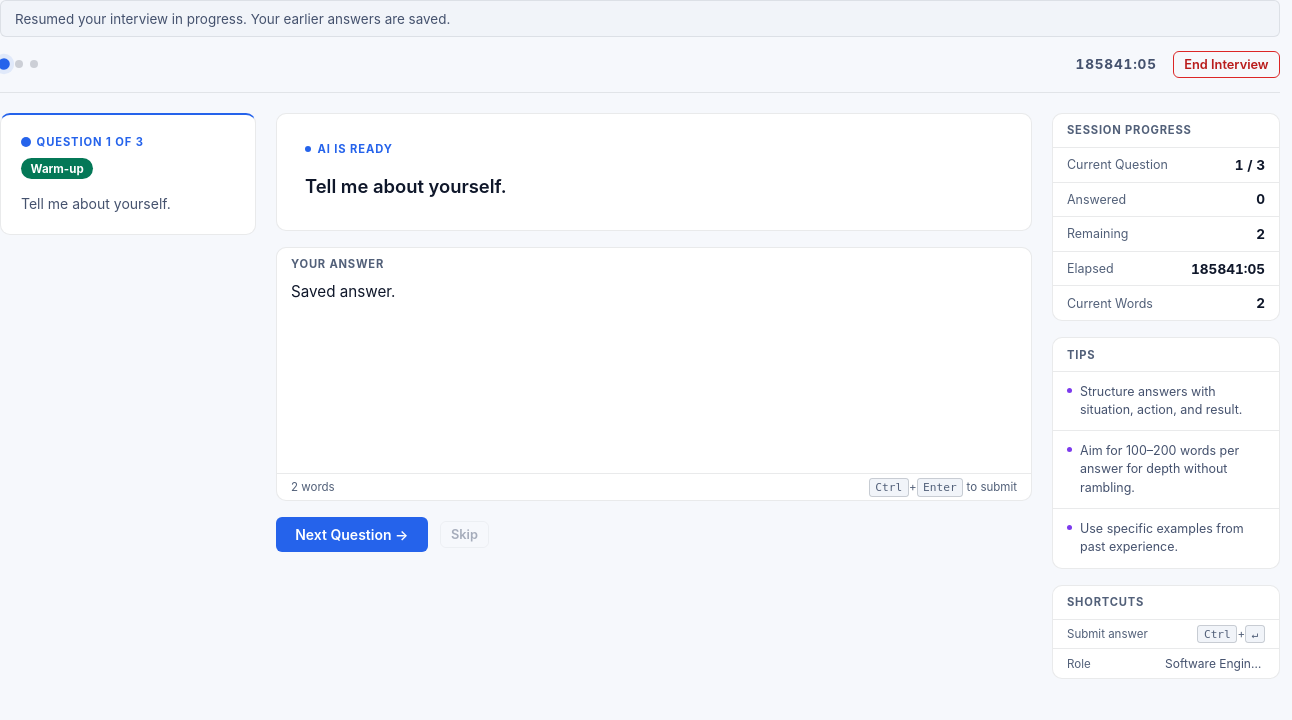
Scenario: LiveInterviewPage › Next question (retry safety) › when an earlier answer to the same question is already saved › restores the server's saved answer, not the rejected edit
This screenshot has width=1292, height=720.
Expected: the text with test id "current-question" is shown, [305,175,506,197]
Replace the text in the text box named "your answer" with "Edited answer." at (654, 370), box [277,271,1031,468]
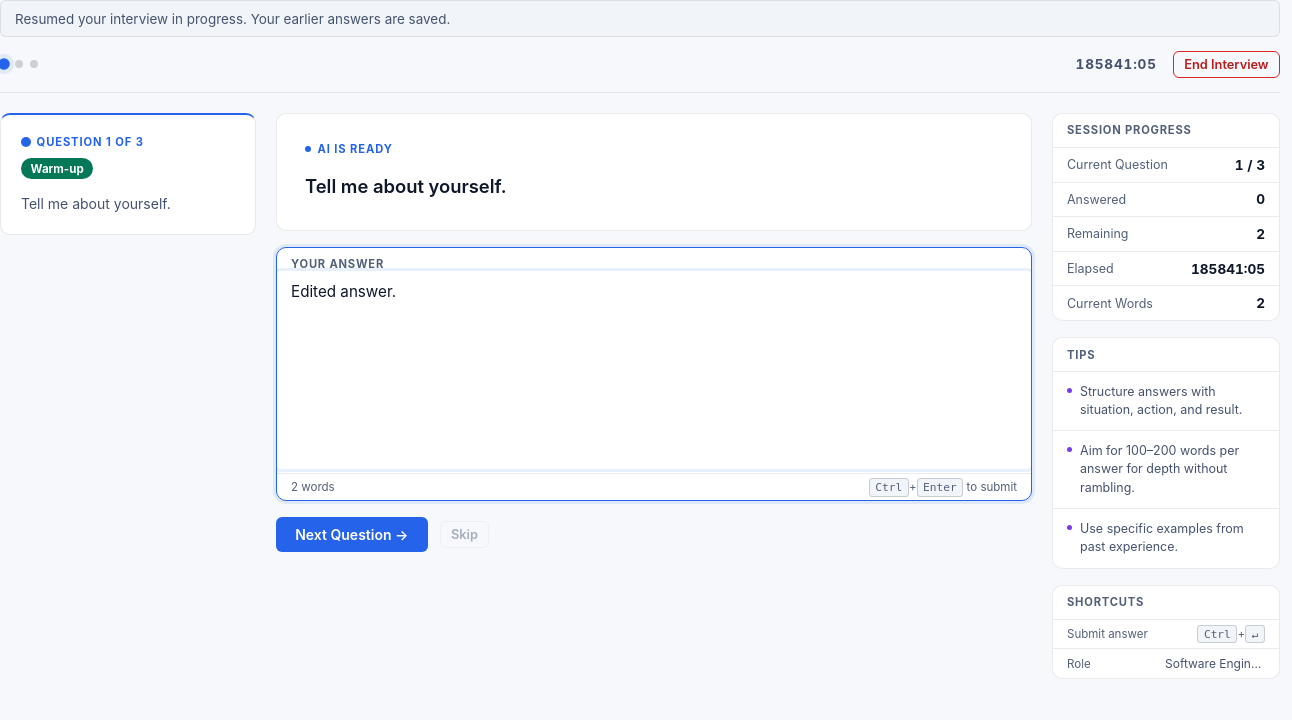
Click the button "Next Question →".
click(352, 535)  # box [276,517,428,552]
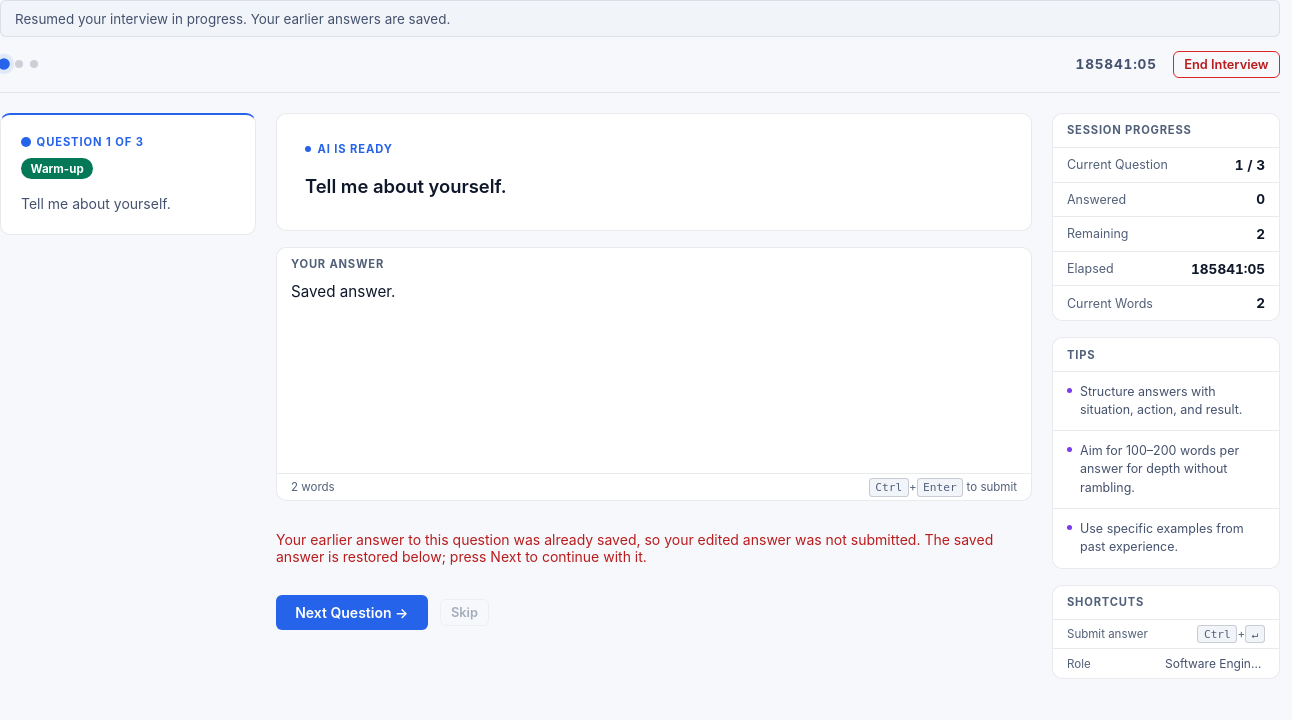
Expected: the text with test id "current-question" reads "Tell me about yourself.", [305,175,506,197]
Result: the text box named "your answer" holds "Saved answer." at [277,271,1031,468]
Result: the text "edited answer was not submitted" is shown at [276,531,993,565]
